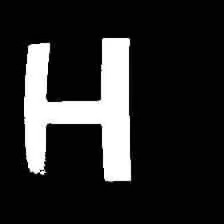LTR_H: (6, 22, 146, 187)
